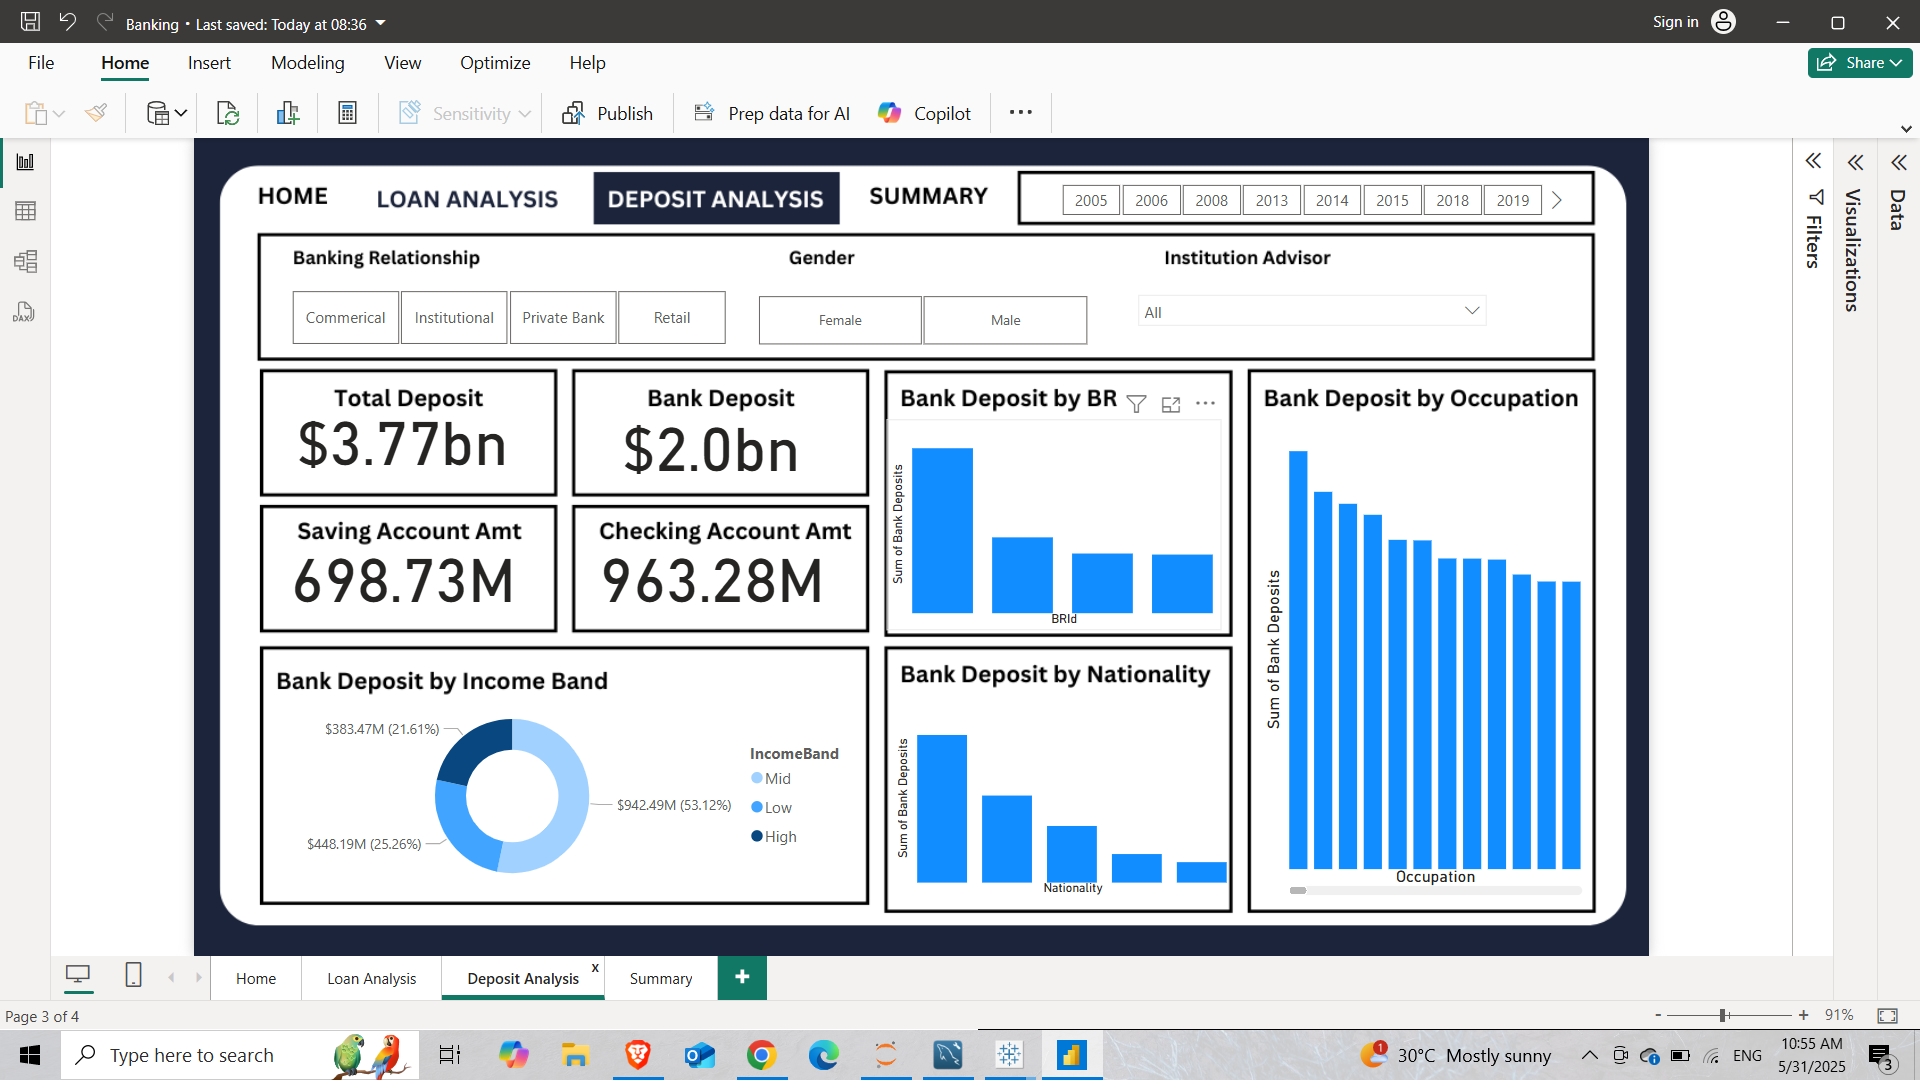

What the dashboard file says about the page in this screenshot:
{"tool":"powerbi","page":{"name":"Deposit Analysis","canvas":[1280,720],"ordinal":2},"visuals":[{"type":"card","fields":{"Values":["Banking.Total Deposit"]},"box":[79.6,244.3,208.6,57.6],"z":0},{"type":"actionButton","box":[38.4,28.8,81.7,42],"z":1000},{"type":"actionButton","box":[152.5,28.8,175.3,39.6],"z":2000},{"type":"actionButton","box":[590.8,32.4,112.9,40.8],"z":3000},{"type":"card","fields":{"Values":["Sum(Banking.Bank Deposits)"]},"box":[362.3,247,186.6,60.4],"z":4000},{"type":"card","fields":{"Values":["Sum(Banking.Saving Accounts)"]},"box":[68.6,363.6,231.9,57.6],"z":5000},{"type":"card","fields":{"Values":["Sum(Banking.Checking Accounts)"]},"box":[347.2,363.6,216.8,59],"z":6000},{"type":"clusteredColumnChart","fields":{"Category":["Banking.BRId"],"Y":["Sum(Banking.Bank Deposits)"]},"box":[609.3,247,295,186.6],"z":7000},{"type":"clusteredColumnChart","fields":{"Category":["Banking.Nationality"],"Y":["Sum(Banking.Bank Deposits)"]},"box":[613.4,492.6,301.9,178.4],"z":8000},{"type":"clusteredColumnChart","fields":{"Category":["Banking.Occupation"],"Y":["Sum(Banking.Bank Deposits)"]},"box":[937.2,242.9,289.5,428.1],"z":9000},{"type":"slicer","fields":{"Values":["Banking.BRId"]},"box":[60.4,127.6,430.9,60.4],"z":10000},{"type":"slicer","fields":{"Values":["Banking.GenderId"]},"box":[470.7,131.7,338.9,56.3],"z":11000},{"type":"slicer","fields":{"Values":["Banking.IAId"]},"box":[820.6,127.6,326.6,60.4],"z":12000},{"type":"slicer","fields":{"Values":["Banking.Year of Joining"]},"box":[738.3,34.3,472,35.7],"z":13000},{"type":"donutChart","fields":{"Category":["Banking.IncomeBand"],"Y":["Sum(Banking.Bank Loans)"]},"box":[65.9,487.1,524.2,183.9],"z":14000}]}

Visuals, with their boxes on the page's 1280x720 design canvas (x1, y1, x2, y2). These are canvas units, not pixel positions in the 1920x1080 screenshot, which may show the page scaled, cropped or inside an application window:
card - Banking.Total Deposit: x1=80 y1=244 x2=288 y2=302
actionButton: x1=38 y1=29 x2=120 y2=71
actionButton: x1=152 y1=29 x2=328 y2=68
actionButton: x1=591 y1=32 x2=704 y2=73
card - Sum(Banking.Bank Deposits): x1=362 y1=247 x2=549 y2=307
card - Sum(Banking.Saving Accounts): x1=69 y1=364 x2=300 y2=421
card - Sum(Banking.Checking Accounts): x1=347 y1=364 x2=564 y2=423
clusteredColumnChart - Banking.BRId x Sum(Banking.Bank Deposits): x1=609 y1=247 x2=904 y2=434
clusteredColumnChart - Banking.Nationality x Sum(Banking.Bank Deposits): x1=613 y1=493 x2=915 y2=671
clusteredColumnChart - Banking.Occupation x Sum(Banking.Bank Deposits): x1=937 y1=243 x2=1227 y2=671
slicer - Banking.BRId: x1=60 y1=128 x2=491 y2=188
slicer - Banking.GenderId: x1=471 y1=132 x2=810 y2=188
slicer - Banking.IAId: x1=821 y1=128 x2=1147 y2=188
slicer - Banking.Year of Joining: x1=738 y1=34 x2=1210 y2=70
donutChart - Banking.IncomeBand x Sum(Banking.Bank Loans): x1=66 y1=487 x2=590 y2=671
